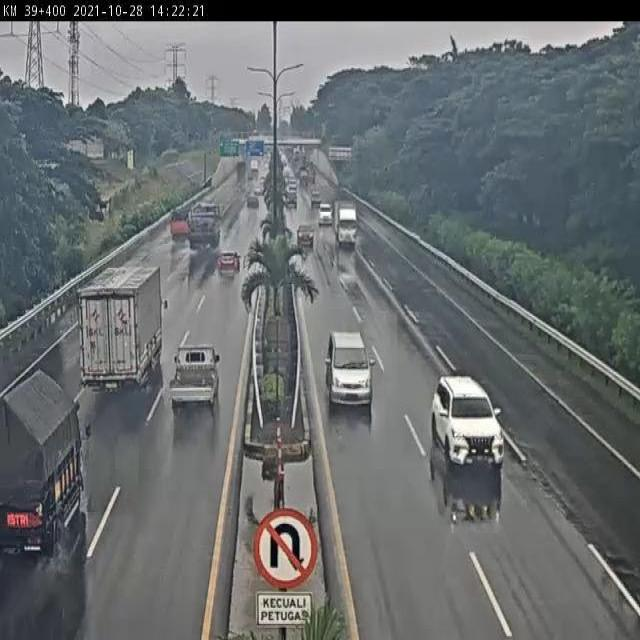car: (430, 371, 507, 476), (169, 343, 221, 413), (326, 331, 374, 406), (217, 248, 243, 280), (295, 219, 316, 248), (317, 201, 333, 227)
truck-l-: (76, 268, 162, 395), (188, 204, 221, 252)
truck-m-: (0, 368, 84, 561)
truck-s-: (334, 198, 360, 254), (168, 201, 189, 243)
